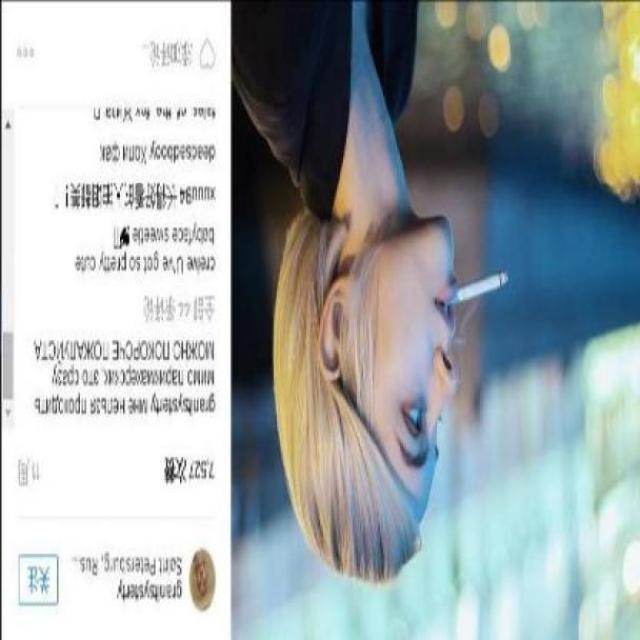rokok: (438, 267, 512, 309)
